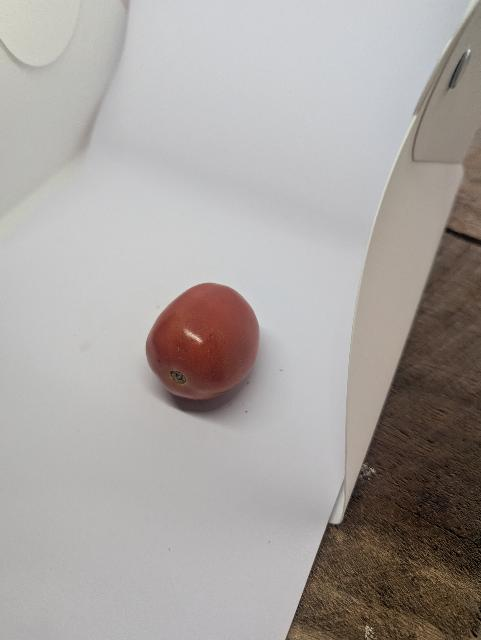red: (143, 273, 279, 435)
